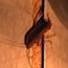cockroach: (24, 16, 50, 50)
